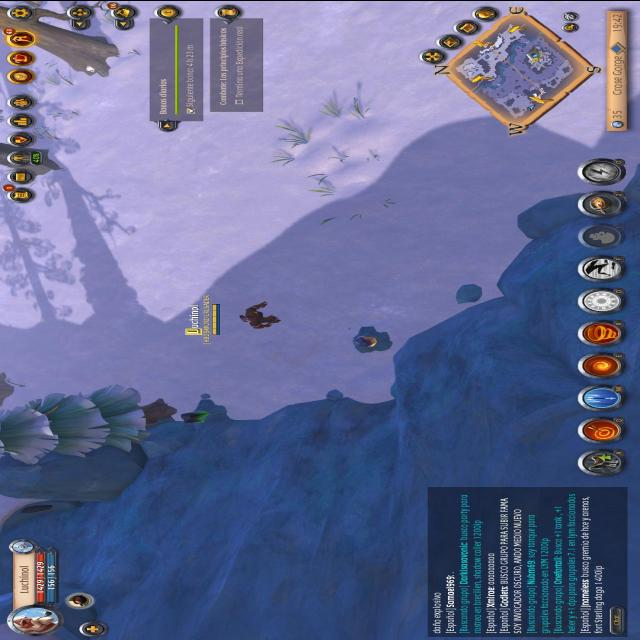piedra_cobre: (352, 321, 398, 353)
